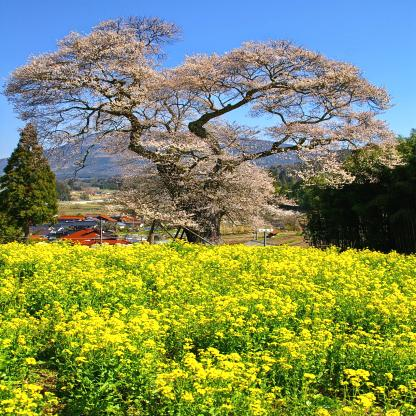EdohiganSakura: (0, 14, 408, 244)
